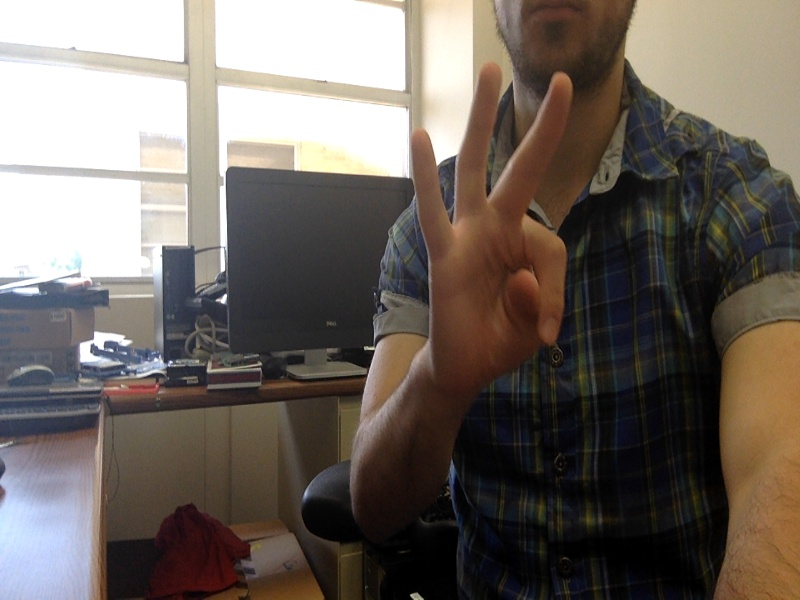3-hand: (410, 63, 577, 384)
